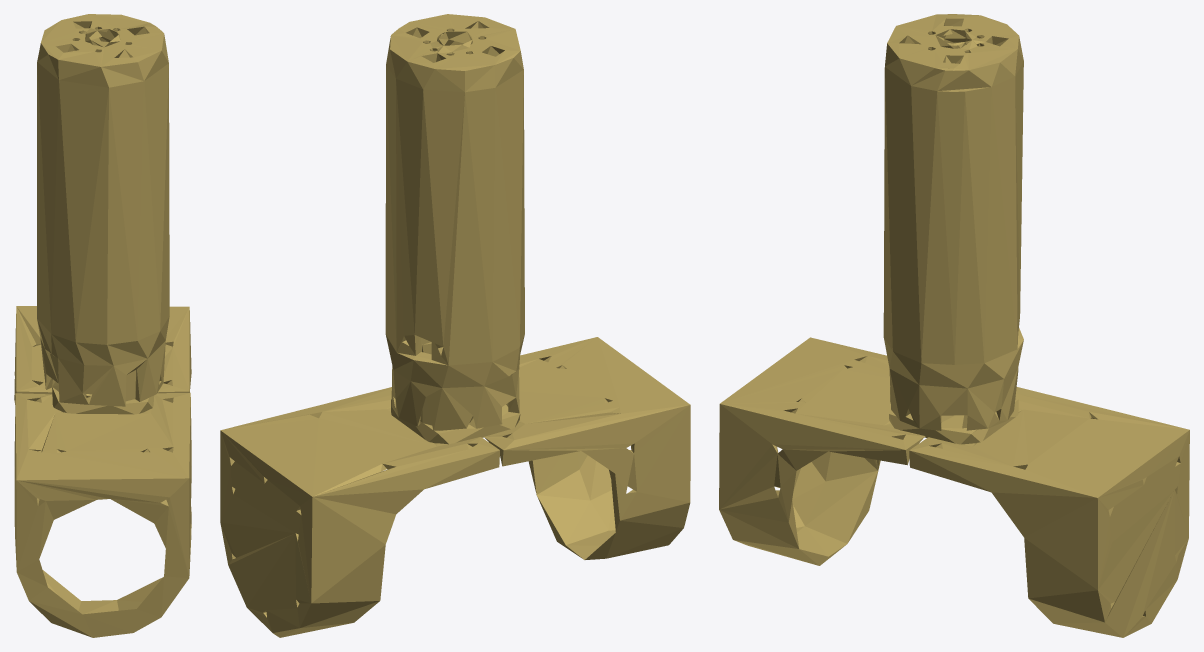
The model's file is l_shoulder_flection.dae.
The picture shows the model from 3 angles, left to right: view 1: azimuth 30°, elevation 25°; view 2: azimuth 150°, elevation 25°; view 3: azimuth 270°, elevation 25°; orthographic projection. The views are drawn at different scales.
Visible parts, largest first — view 1: M1L; view 2: M1L; view 3: M1L.
Part boxes in pixels (x1=…): M1L: x1=14, y1=14, x2=191, y2=637; M1L: x1=220, y1=14, x2=690, y2=637; M1L: x1=719, y1=14, x2=1189, y2=637.
Bounding box in the file's own units: 0.1127 × 0.14 × 0.1804.
